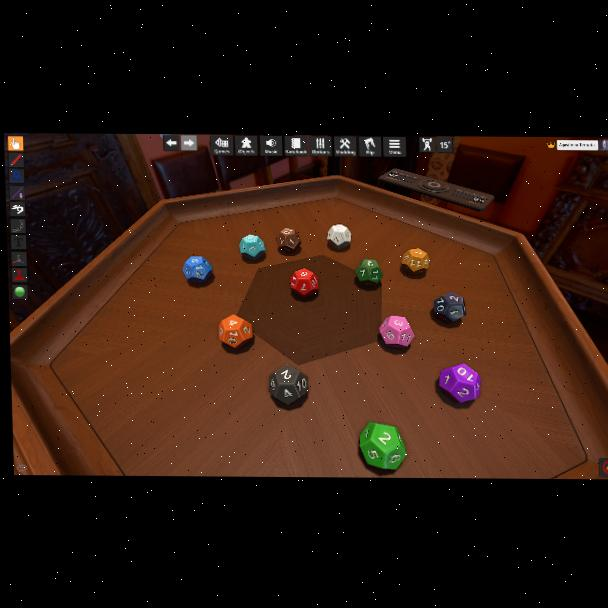d12: (361, 423, 407, 469), (437, 364, 479, 403), (268, 364, 308, 404), (217, 314, 250, 349), (378, 315, 410, 348), (434, 292, 466, 323), (289, 267, 319, 297), (183, 255, 213, 284), (238, 234, 266, 260), (276, 227, 302, 253), (355, 259, 381, 285), (401, 249, 426, 275), (327, 224, 351, 249)
